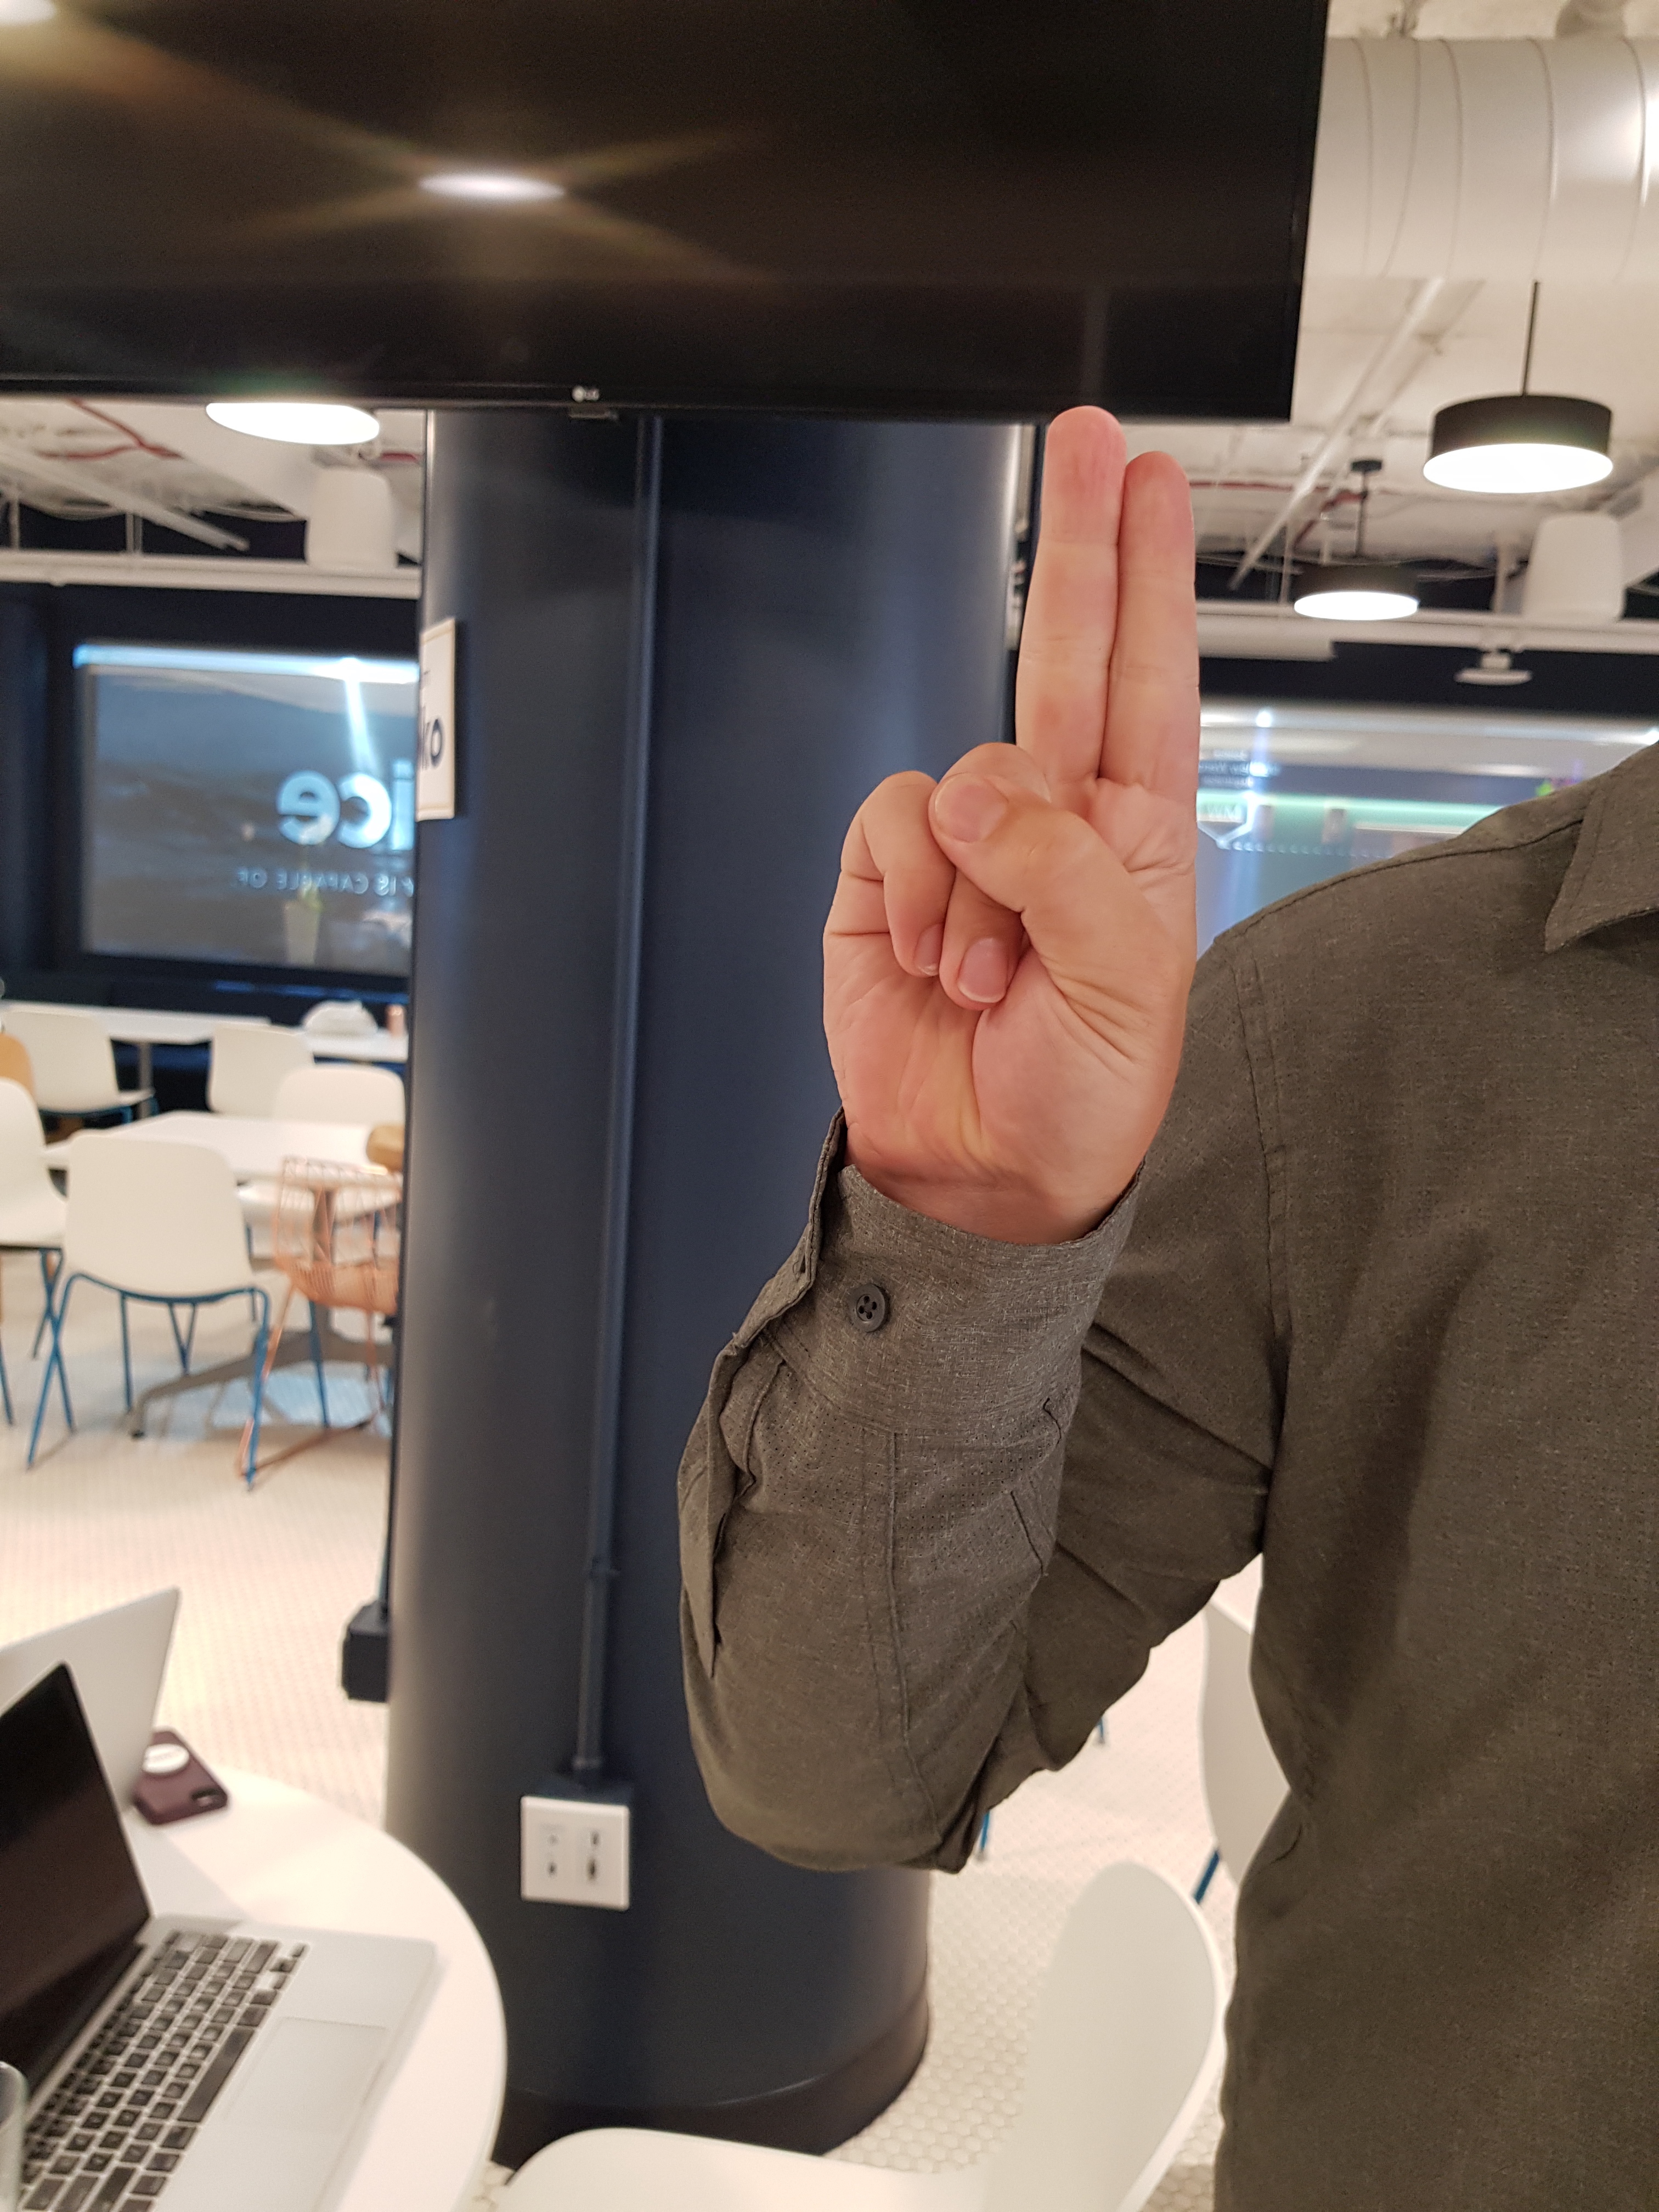u: (779, 362, 1244, 1249)
